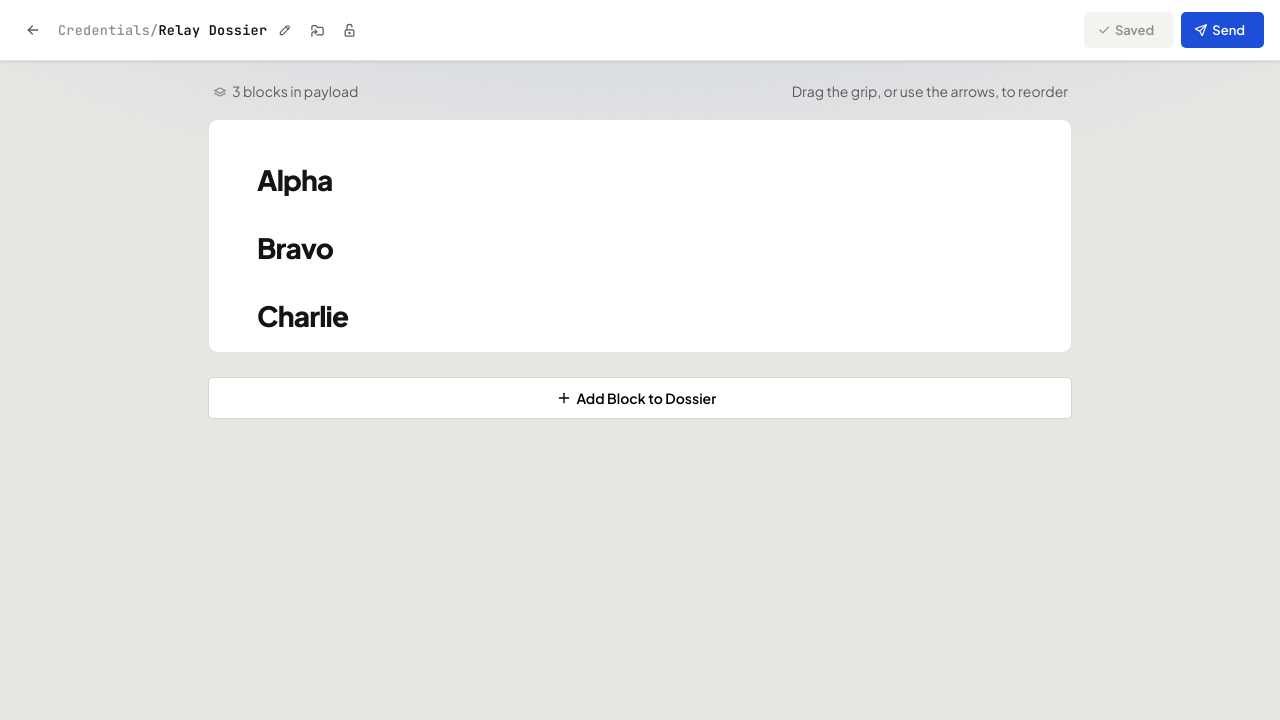
Scenario: FileEditView — an attachment block holds a file the user chose › gives every block-type row its full description, with room to grow rather than clip
This screenshot has width=1280, height=720.
Click the button "Add Block to Dossier".
click(640, 398)  # box [208,377,1072,419]
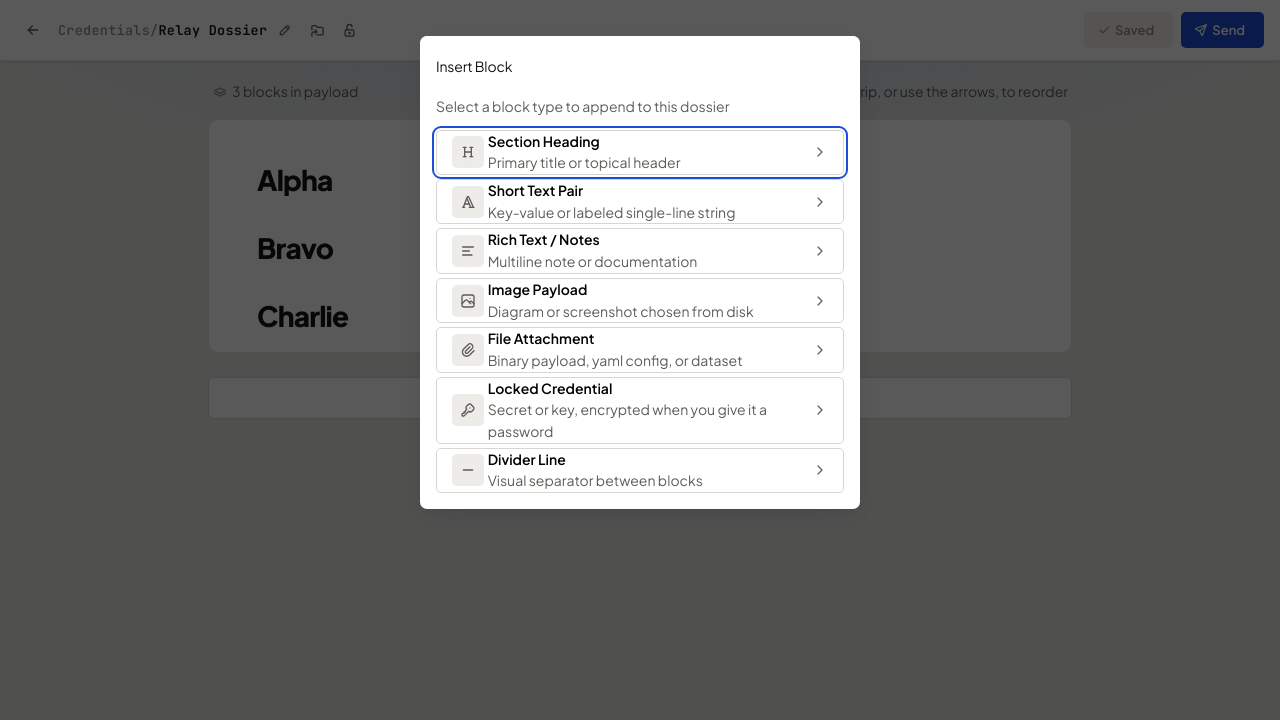
Result: the button that starts with "Locked Credential" reads "Locked Credential Secret or key, encrypted when you give it a password" at [436,377,844,444]
